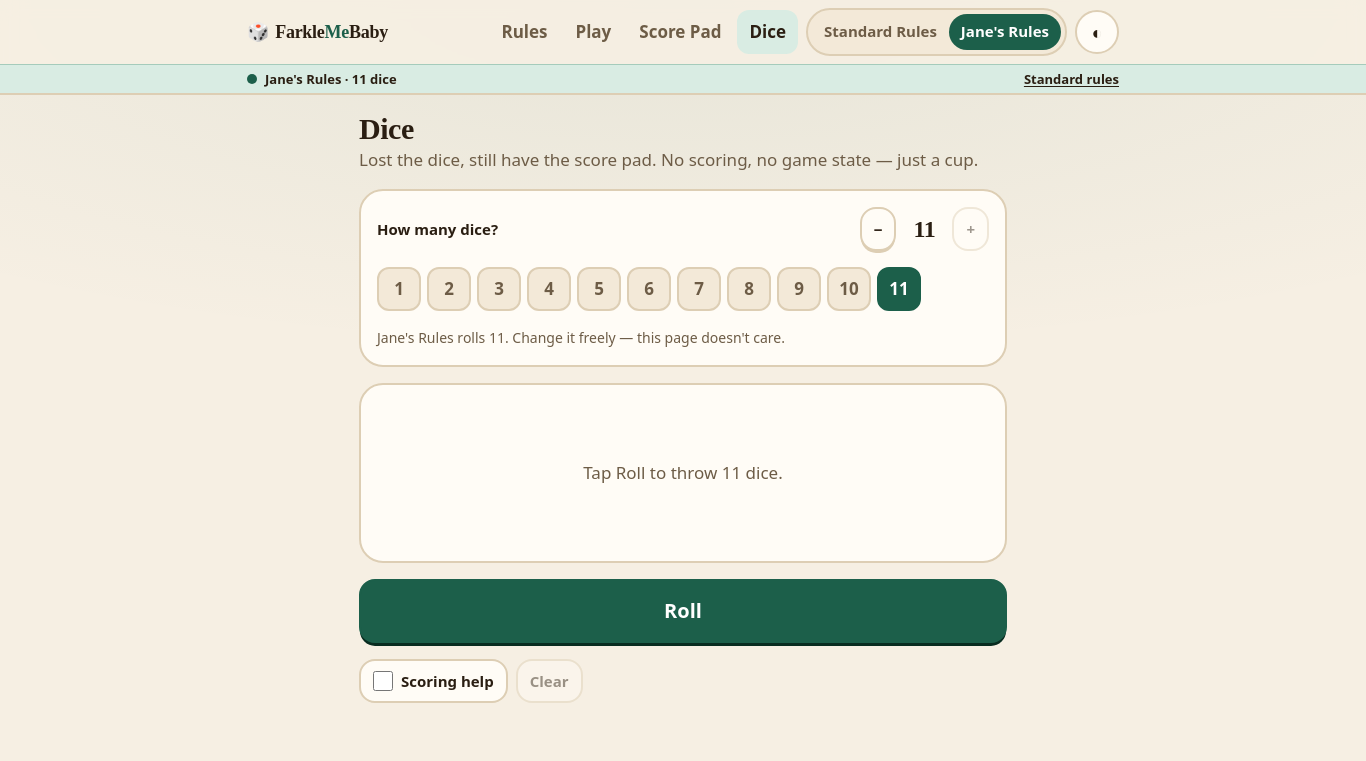
it: /dice › rolls the rule set default and shows no scoring until asked
Click the button "Roll". click: (683, 611)
box: left=359, top=579, right=1007, bottom=643
(page scrolled)
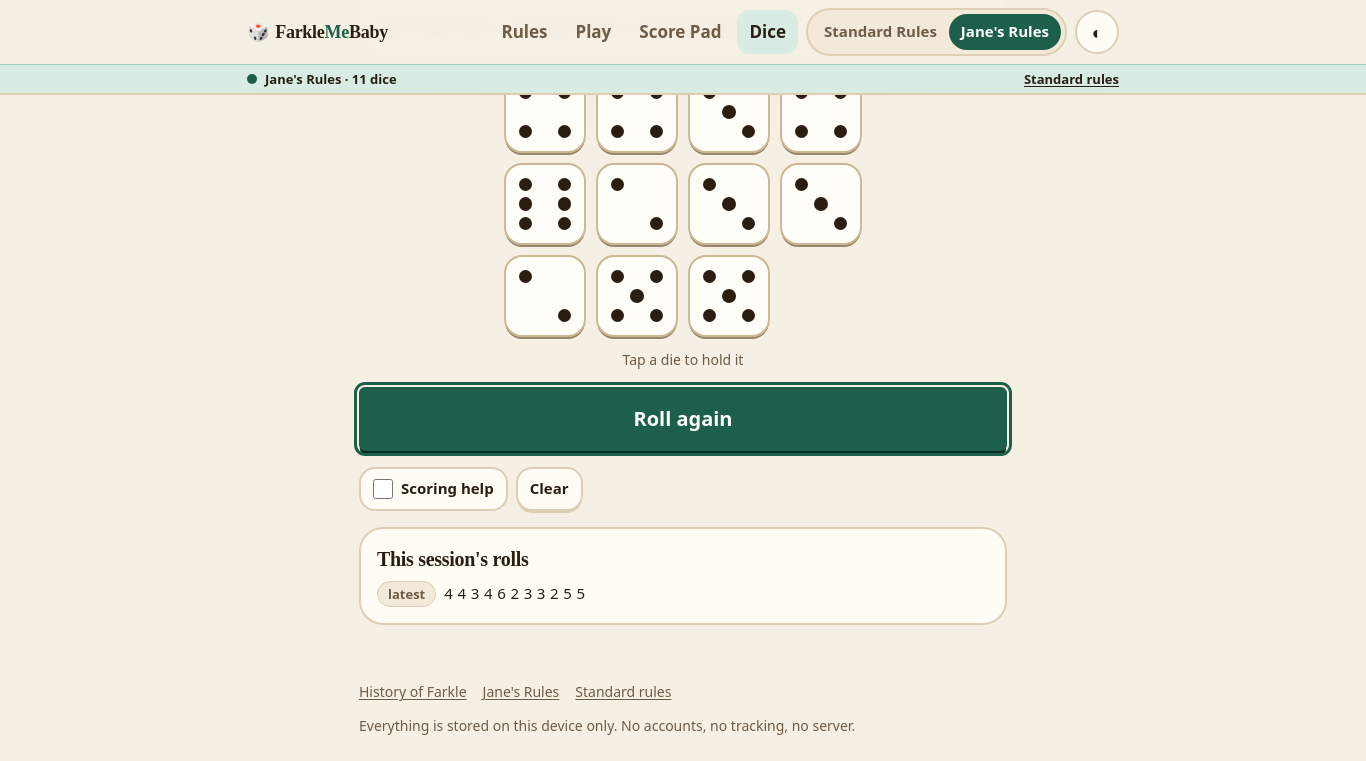
Check: the text "Best available" is not shown
Check: the number of buttons named "Die showing" is 11
Click the checkbox labelled "Scoring help". click: (383, 489)
box: left=373, top=479, right=393, bottom=499
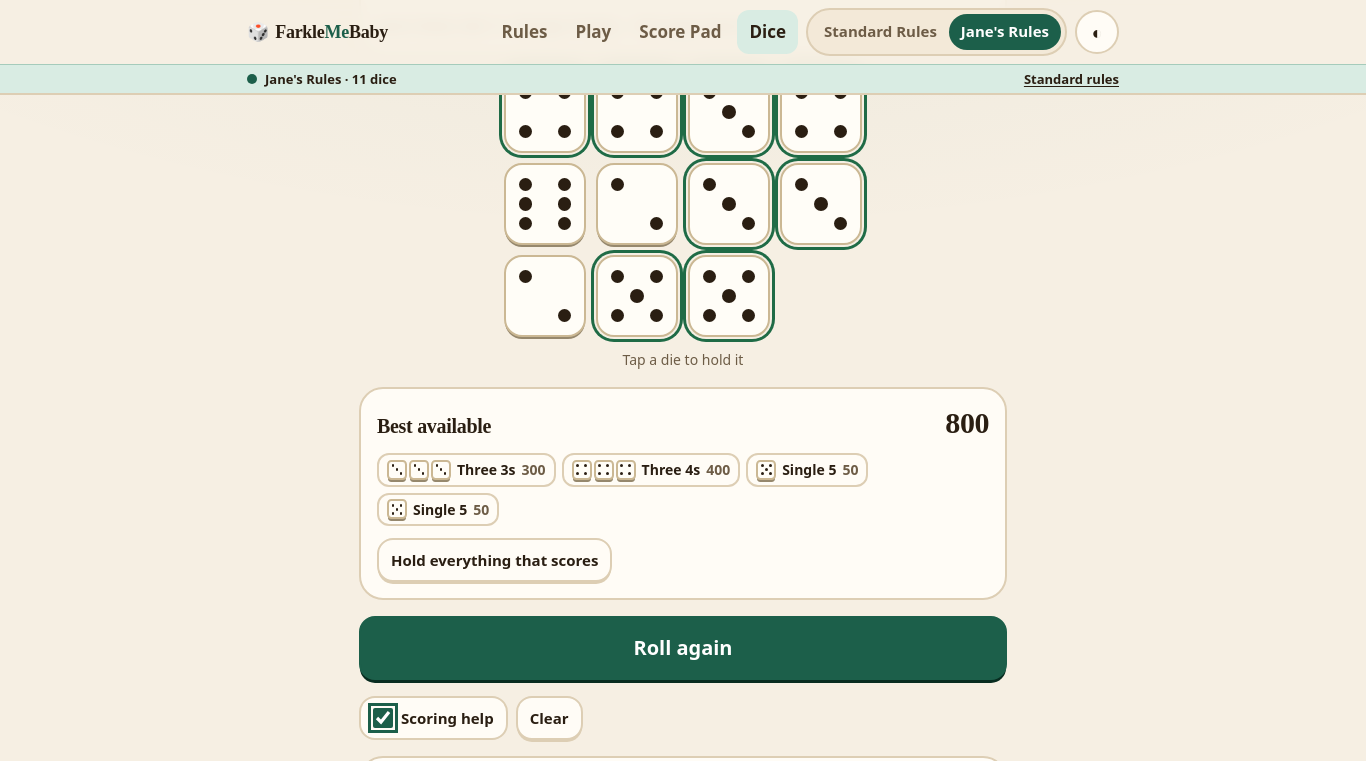
Check: the heading "Best available" is shown, box left=377, top=412, right=491, bottom=440
